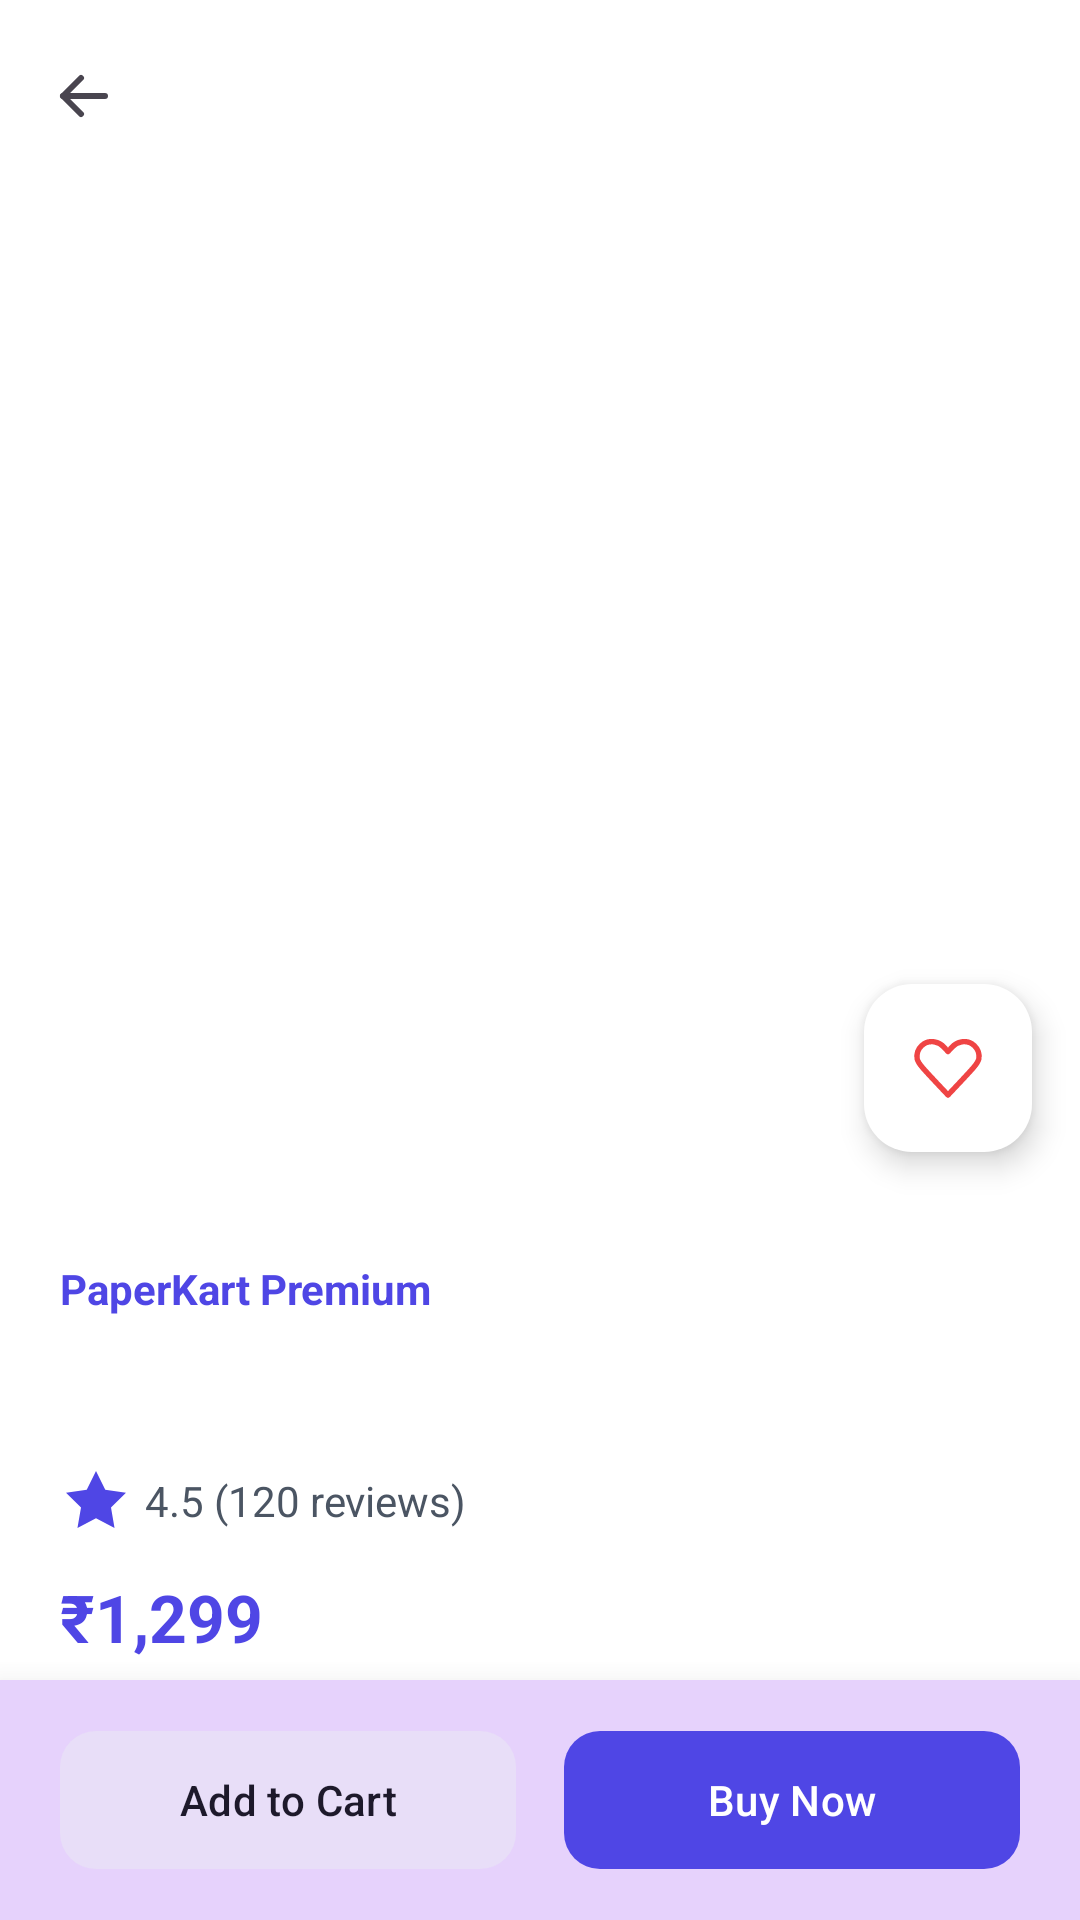

Screen size 1080 × 1920. Icon name, then its box in pixels as Rect(x1, y1, x2, y2):
heart: Rect(914, 1022, 1032, 1098)
